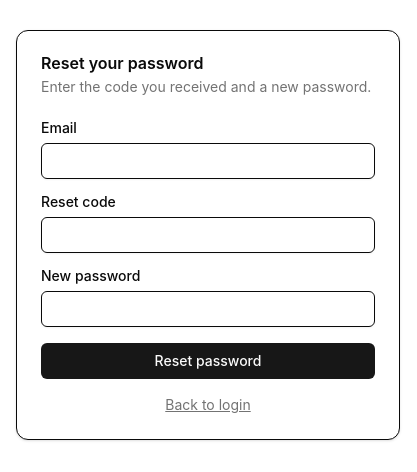
Test: ResetPasswordPage › Expired OTP shows a distinct message
Type "a@b.com" into the field labelled "Email" at (208,161), box [41,143,375,179]
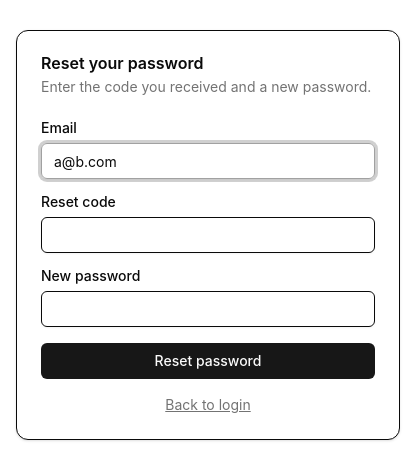
Type "123456" into the field labelled "Reset code" at (208,235), box [41,217,375,253]
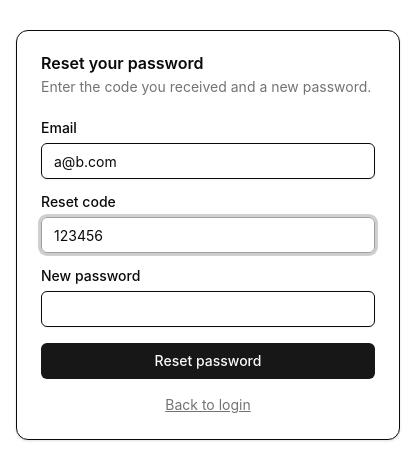
Type "Password1" into the password field labelled "New password" at (208,309), box [41,291,375,327]
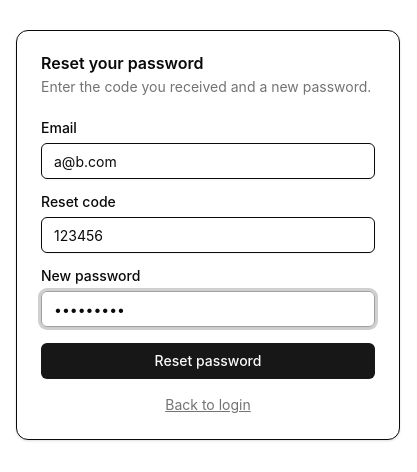
Click the button "Reset password" at (208,361), box [41,343,375,379]
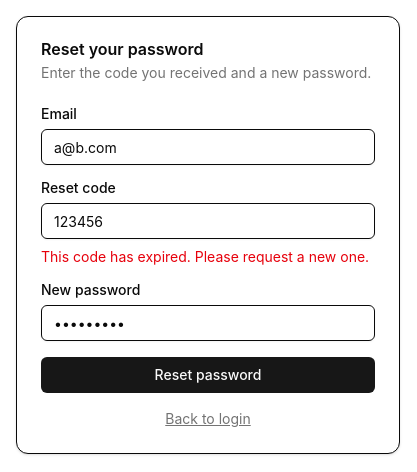
Check: the text "This code has expired. Please request a new one." is shown, box [41,247,375,267]
